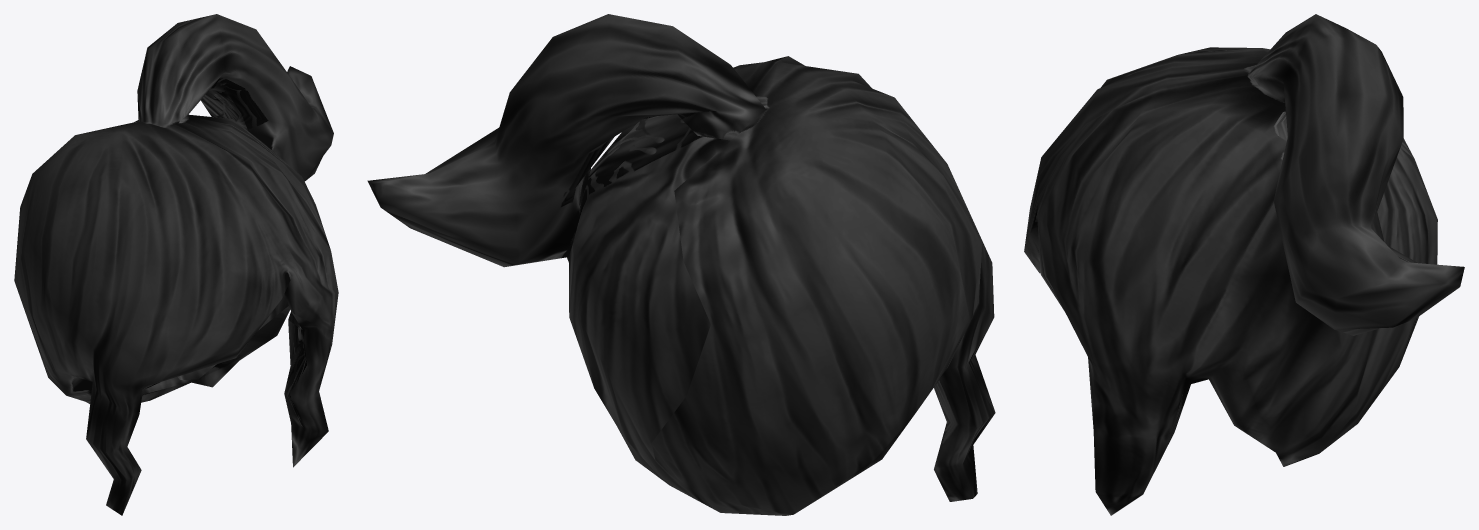
Rendered from AF_M_hair_G_12.fbx.
3 renders of one model, left to right at view 1: azimuth 30°, elevation 25°; view 2: azimuth 150°, elevation 25°; view 3: azimuth 270°, elevation 25°, orthographic. The views are drawn at different scales.
Visible parts, largest first — view 1: AF_M_hair_G_12; view 2: AF_M_hair_G_12; view 3: AF_M_hair_G_12.
Part boxes in pixels (<box>): AF_M_hair_G_12: <box>14,14,338,515</box>; AF_M_hair_G_12: <box>367,14,995,515</box>; AF_M_hair_G_12: <box>1024,14,1464,515</box>.
Size of the model in its own units: 976 by 1012 by 829.
